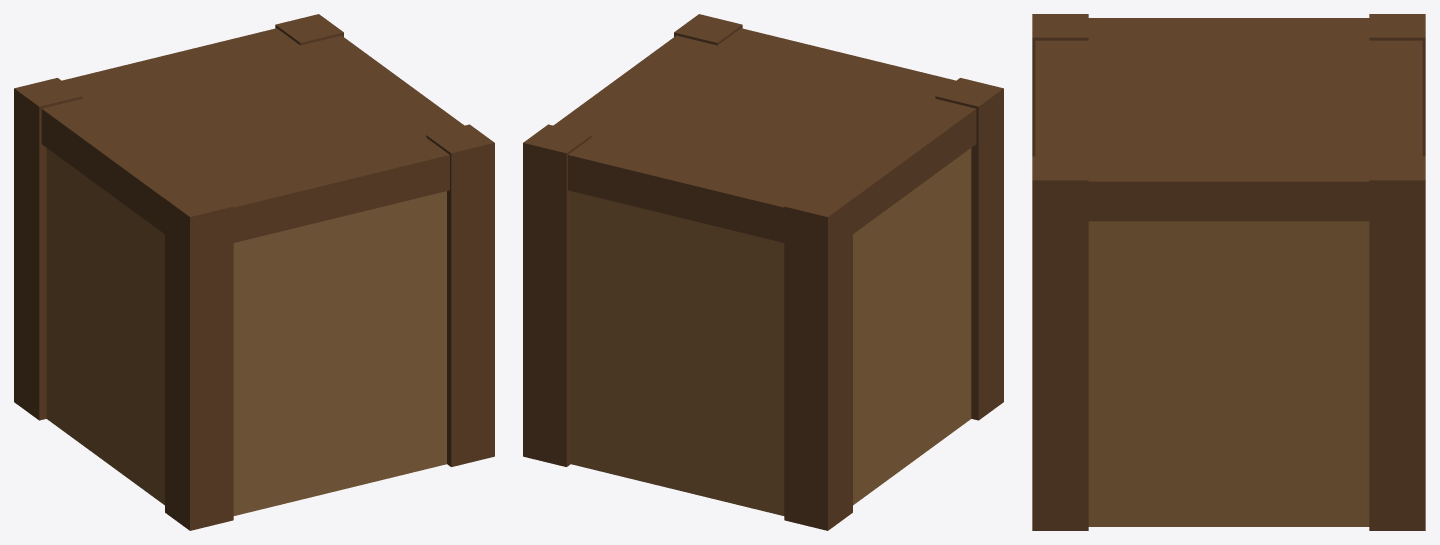
Rendered from crate.glb.
3 renders of one model, left to right at view 1: azimuth 30°, elevation 25°; view 2: azimuth 150°, elevation 25°; view 3: azimuth 270°, elevation 25°, orthographic. The views are drawn at different scales.
Parts seen in each view (by area): view 1: crate; view 2: crate; view 3: crate.
Part boxes in pixels (x1,y1,x2,y2): crate: (14, 14, 494, 530); crate: (523, 14, 1003, 530); crate: (1032, 14, 1425, 530).
Bounding box in the file's own units: 0.63 × 0.62 × 0.63.
